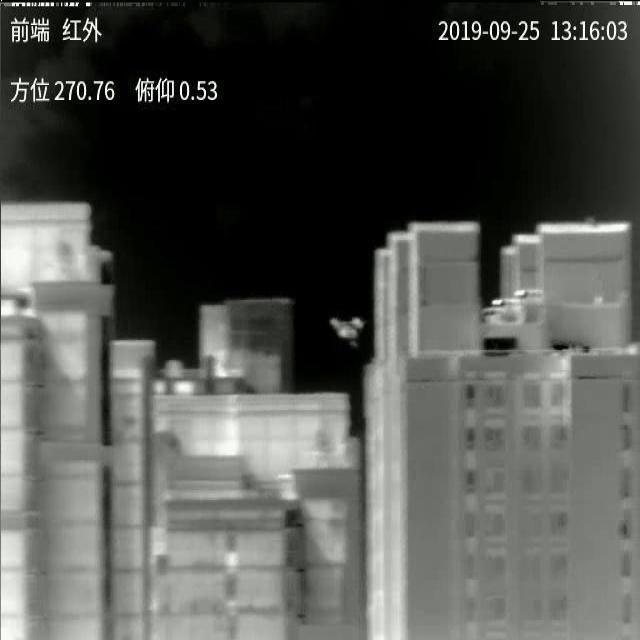drone: (329, 318, 364, 347)
